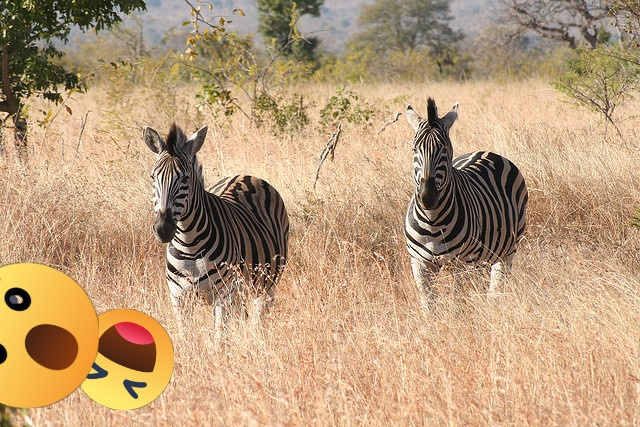haha: (73, 309, 174, 410)
wow: (0, 263, 99, 408)
